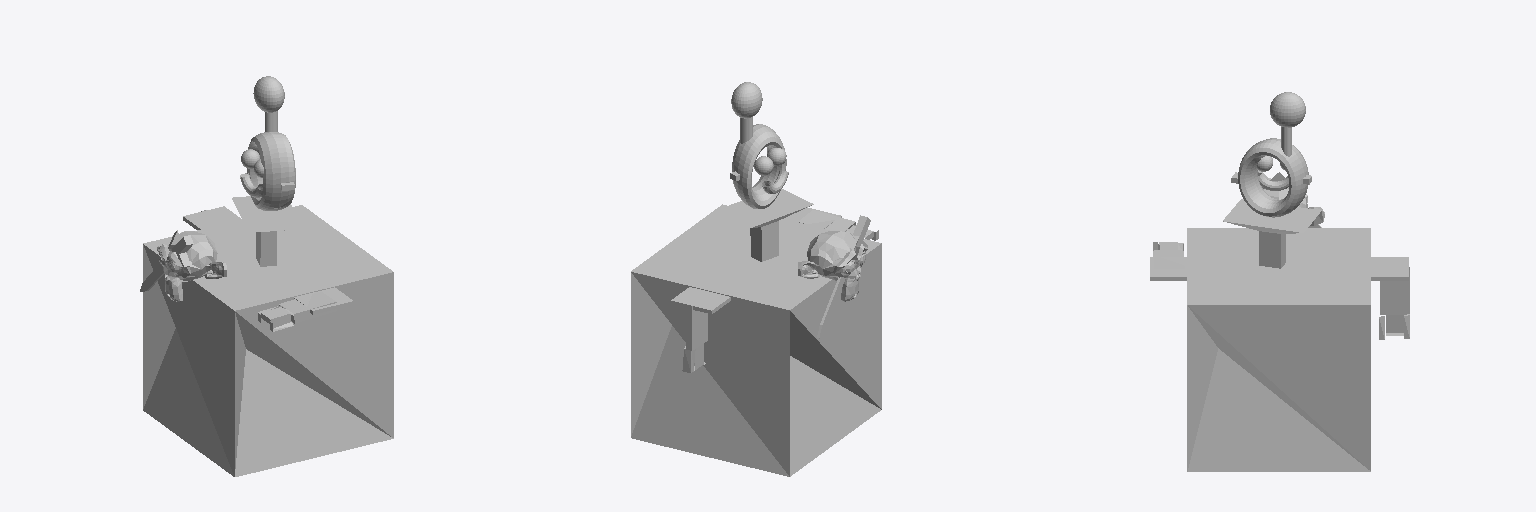
The model's file is Robot_000028.obj.
3 renders of one model, left to right at view 1: azimuth 30°, elevation 25°; view 2: azimuth 150°, elevation 25°; view 3: azimuth 270°, elevation 25°, orthographic.
Visible parts, largest first — view 1: Cube.001_Cube, Cube_Cube.001, Suzanne, Left_Hand.001_Cube.005, Cube.002_Cube.004, Sphere, Cube.003_Cube.006; view 2: Cube.001_Cube, Cube_Cube.001, Suzanne, Cube.002_Cube.004, Left_Hand_Cube.002, Cube.003_Cube.006, Sphere, Left_Hand.001_Cube.005; view 3: Cube.001_Cube, Cube_Cube.001, Left_Hand_Cube.002, Cube.002_Cube.004, Sphere, Left_Hand.001_Cube.005.
Part boxes in pixels (left/top/right/bottom): Cube.001_Cube: left=143, top=205, right=393, bottom=476; Cube_Cube.001: left=232, top=132, right=301, bottom=266; Suzanne: left=157, top=231, right=226, bottom=301; Left_Hand.001_Cube.005: left=258, top=292, right=336, bottom=331; Cube.002_Cube.004: left=183, top=206, right=353, bottom=314; Sphere: left=253, top=76, right=284, bottom=112; Cube.003_Cube.006: left=140, top=230, right=193, bottom=291; Cube.001_Cube: left=631, top=204, right=881, bottom=476; Cube_Cube.001: left=715, top=124, right=813, bottom=261; Suzanne: left=798, top=231, right=867, bottom=301; Cube.002_Cube.004: left=671, top=207, right=841, bottom=313; Left_Hand_Cube.002: left=682, top=305, right=707, bottom=372; Cube.003_Cube.006: left=817, top=215, right=870, bottom=338; Sphere: left=731, top=82, right=762, bottom=118; Left_Hand.001_Cube.005: left=799, top=210, right=878, bottom=240; Cube.001_Cube: left=1187, top=228, right=1370, bottom=471; Cube_Cube.001: left=1223, top=138, right=1321, bottom=268; Left_Hand_Cube.002: left=1379, top=267, right=1409, bottom=339; Cube.002_Cube.004: left=1150, top=257, right=1408, bottom=280; Sphere: left=1270, top=92, right=1305, bottom=127; Left_Hand.001_Cube.005: left=1153, top=242, right=1184, bottom=268.
Bounding box in the file's own units: 2.3 × 4.11 × 2.83.